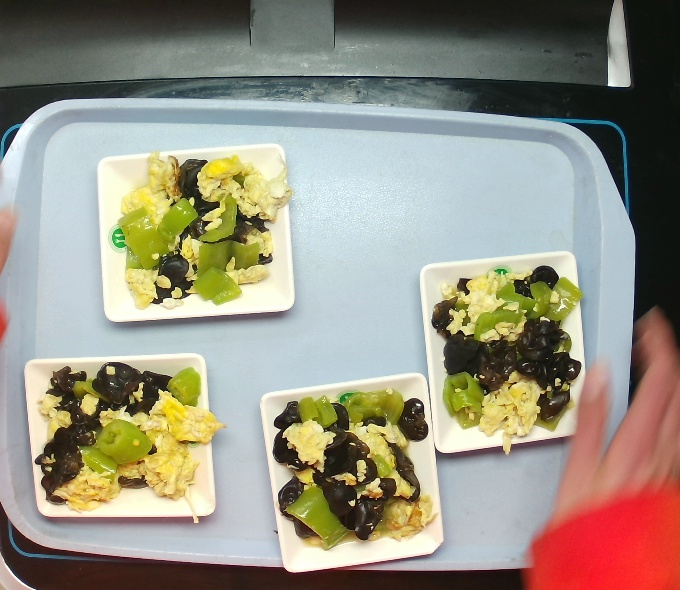wcq-MuErDanHuang: (425, 255, 588, 450), (269, 382, 438, 554), (114, 151, 287, 312), (35, 359, 212, 514)
